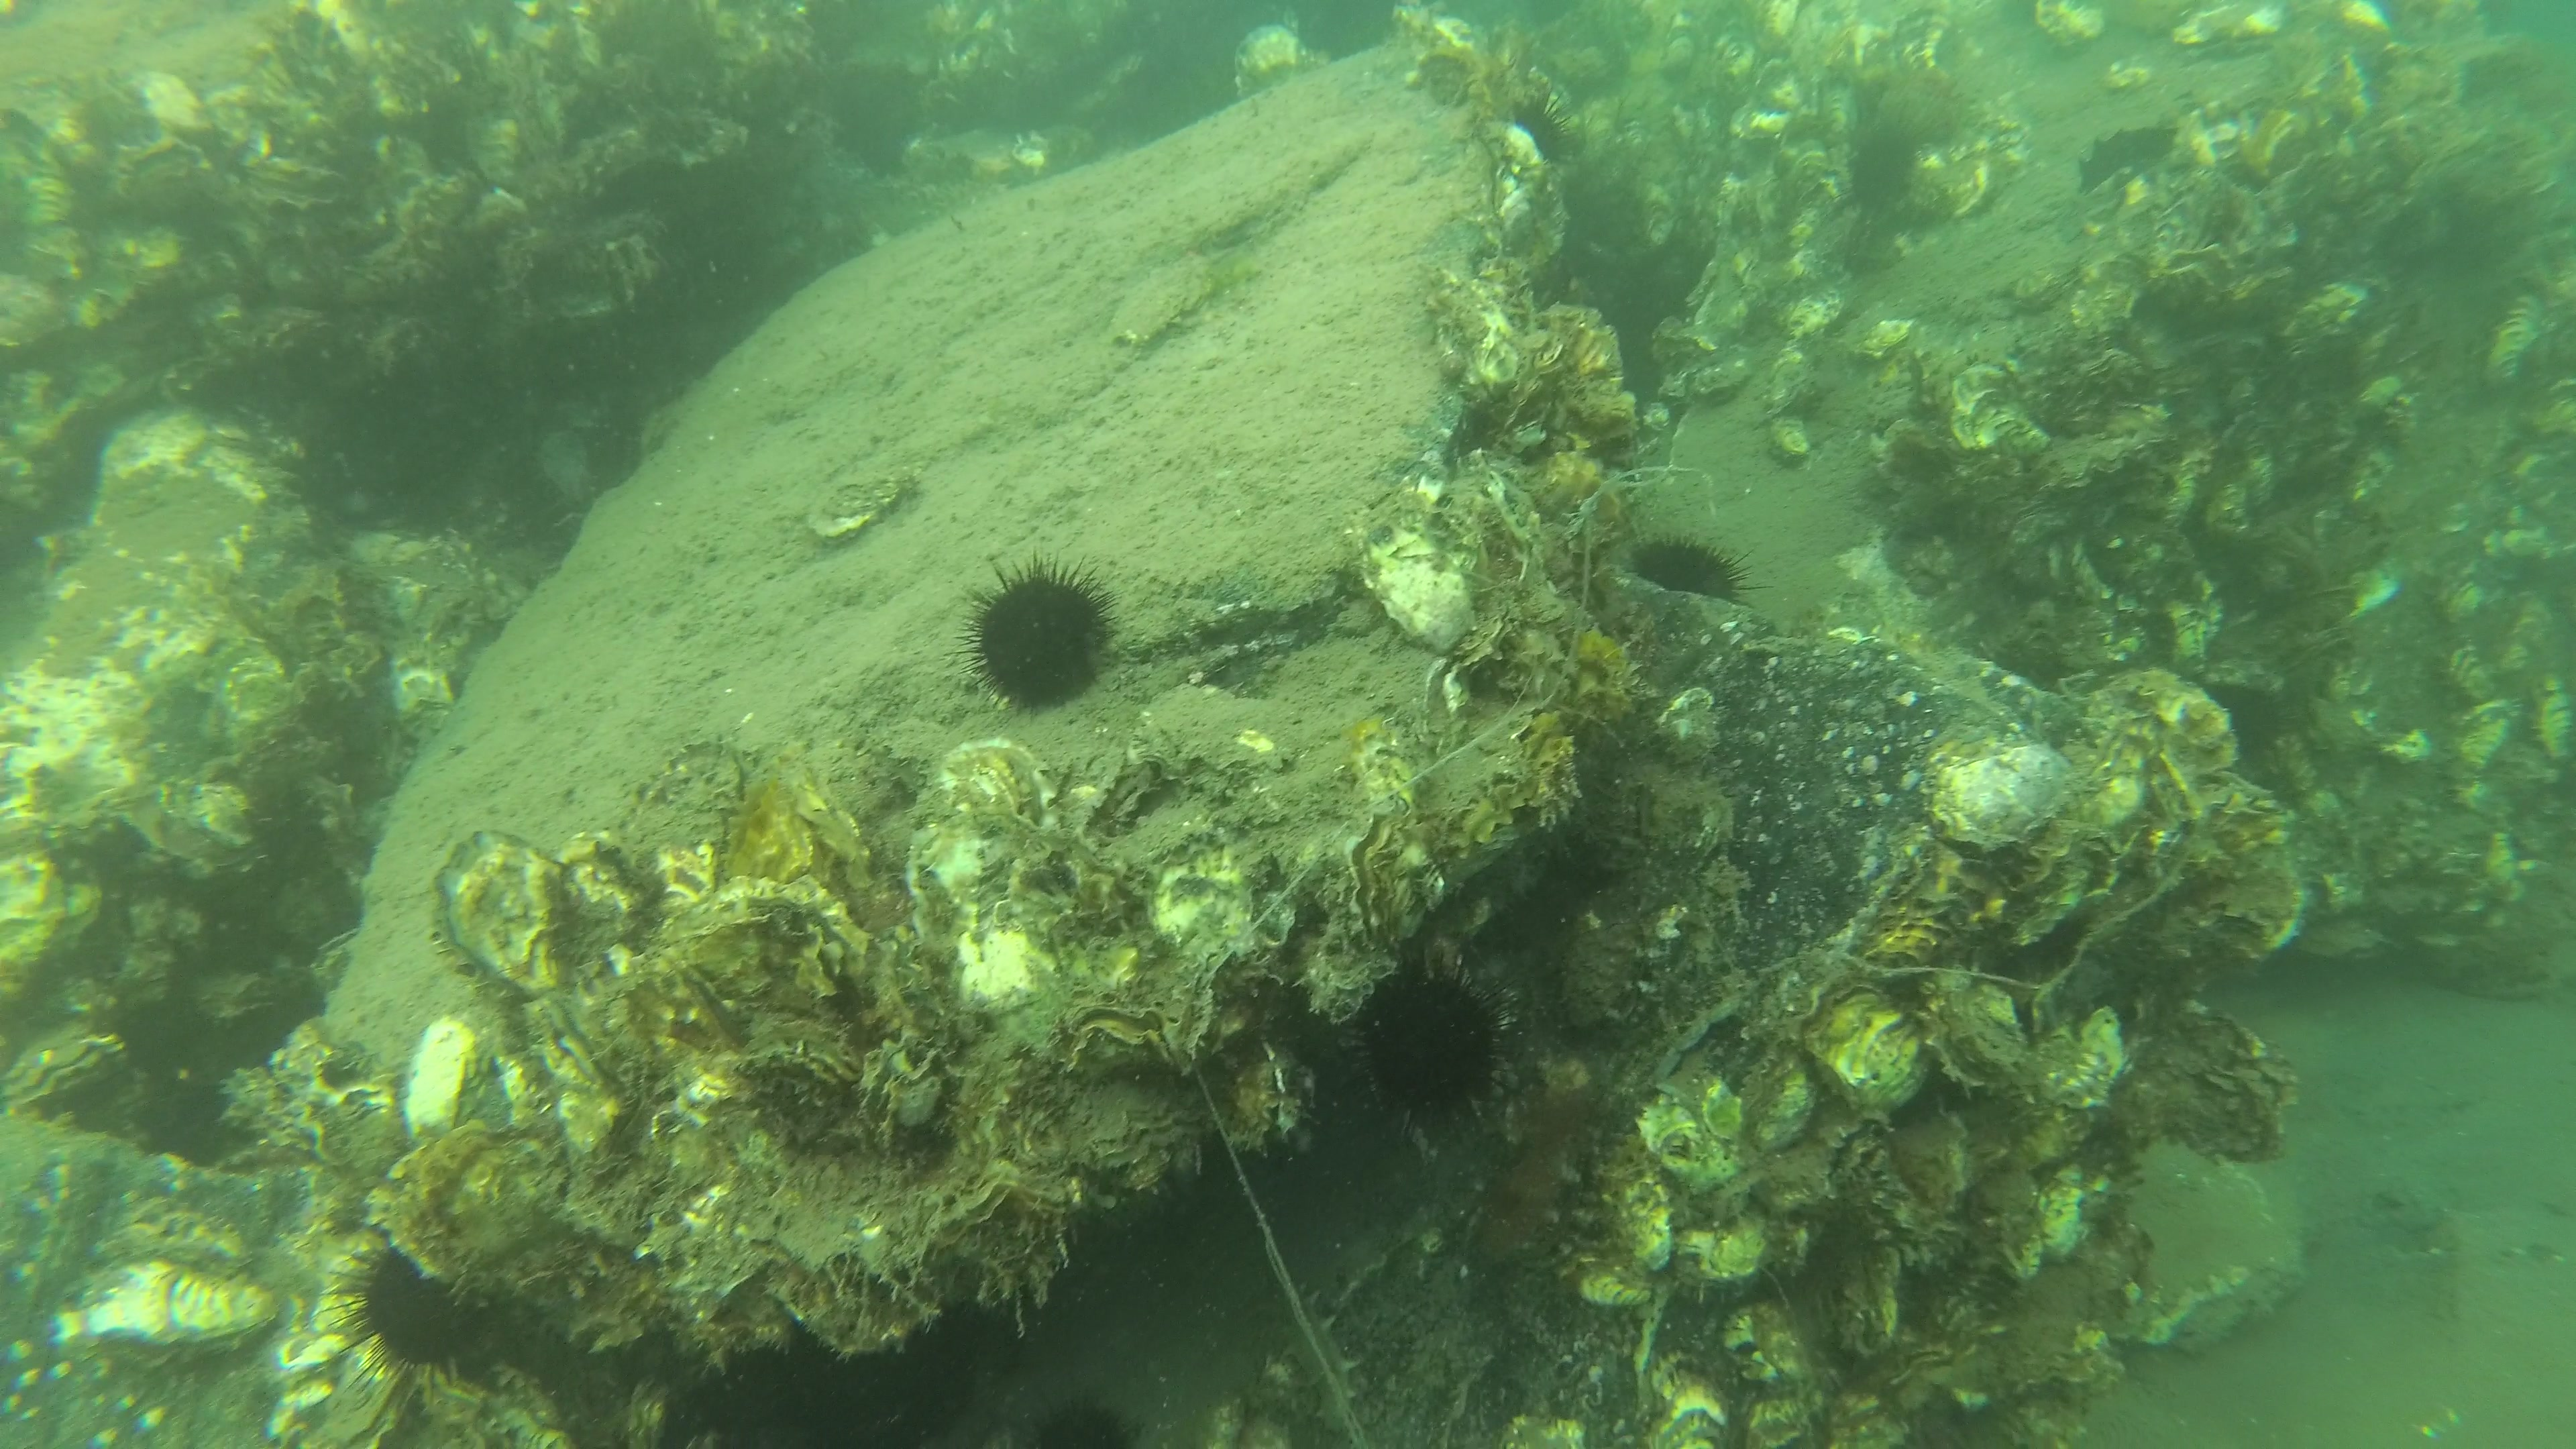echinus: (1346, 945, 1527, 1134), (947, 548, 1129, 724), (324, 1240, 497, 1387), (1621, 524, 1750, 607), (1023, 1394, 1154, 1449), (1511, 87, 1576, 165)
holothurian: (2072, 119, 2183, 195)
